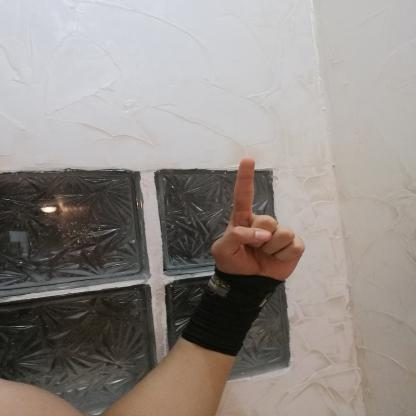BAA: (202, 151, 314, 290)
